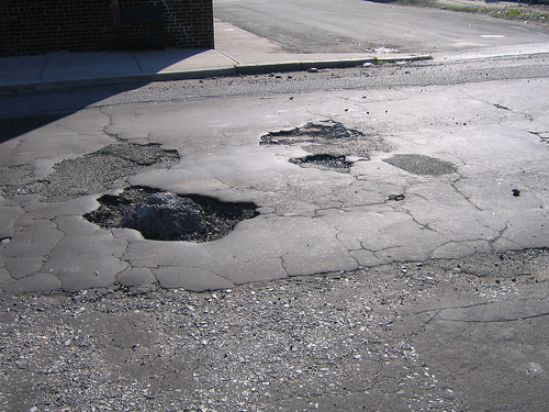pothole: (82, 181, 264, 245), (253, 114, 364, 148), (290, 148, 355, 173)
